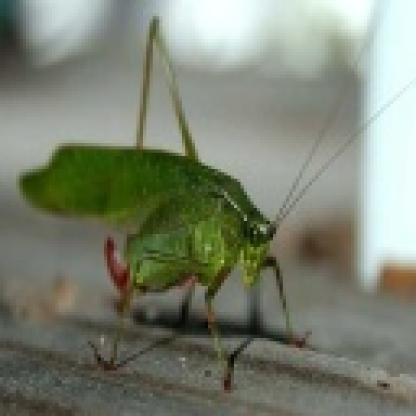grasshopper: (18, 15, 325, 383)
